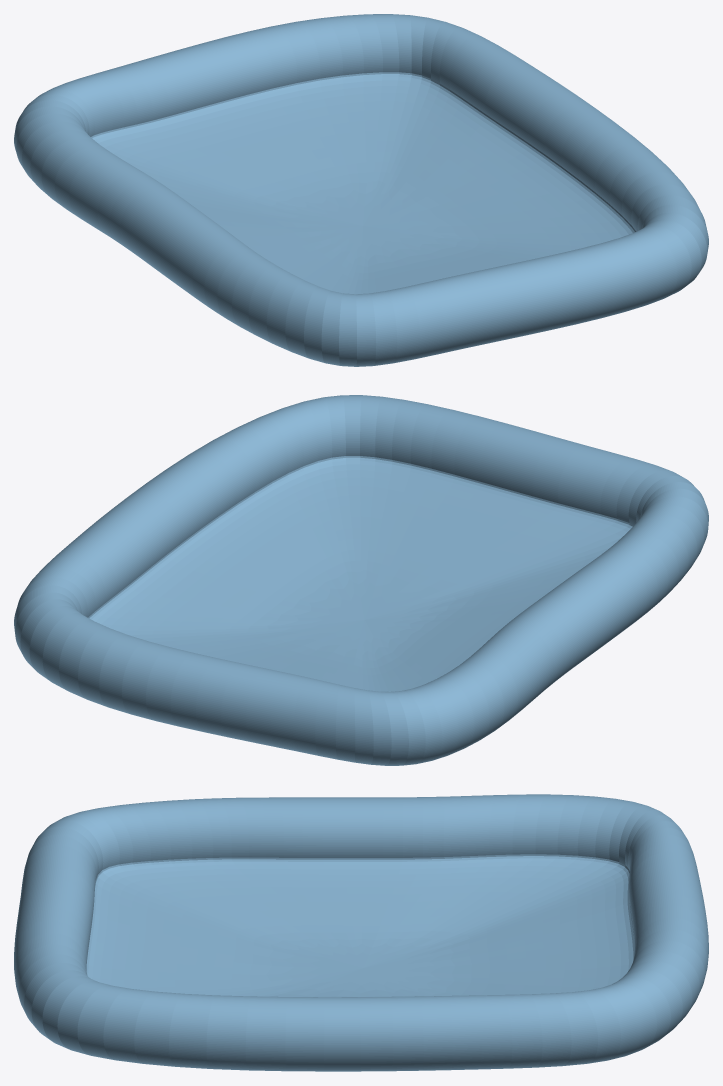
The model's file is cat bed 1.fbx.
3 views of the same model, one above another, from view 1: azimuth 30°, elevation 25°; view 2: azimuth 150°, elevation 25°; view 3: azimuth 270°, elevation 25° (orthographic). The views are drawn at different scales.
Visible parts, largest first — view 1: Cylinder; view 2: Cylinder; view 3: Cylinder.
Boxes of the visible parts, box(x1,y1,x2,y2) form: Cylinder: box(14, 14, 708, 366); Cylinder: box(14, 395, 708, 765); Cylinder: box(14, 794, 708, 1071).
Size of the model in its own units: 341 by 49.92 by 429.
